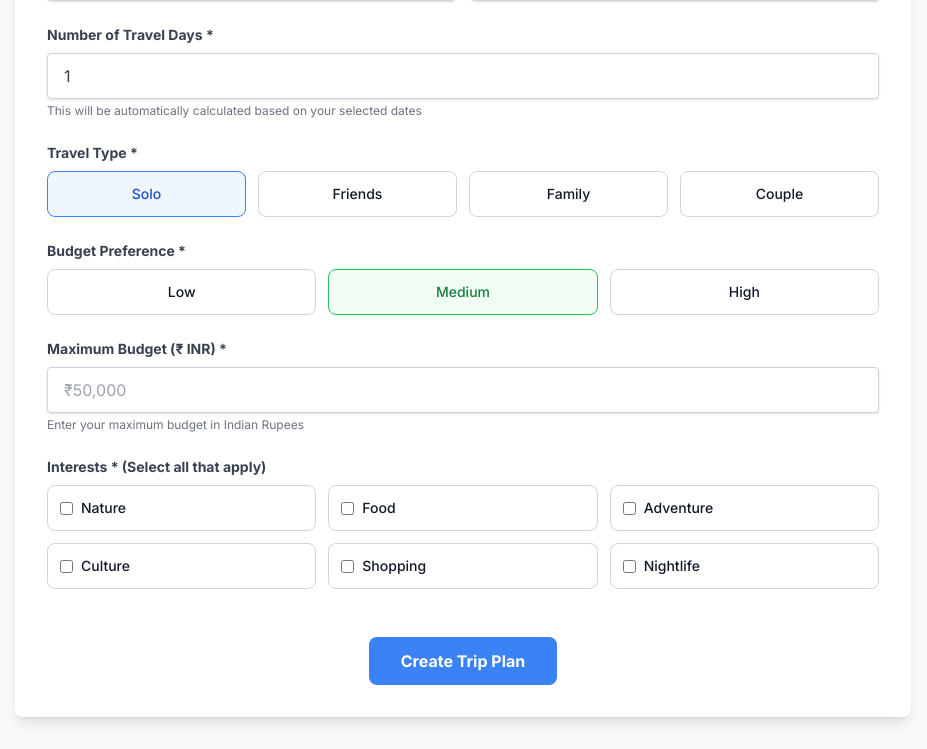
it: Trip Planning Flow Integration Tests › should validate form fields before submission
(page scrolled)
// Try to submit empty form
Click the button "Create Trip Plan": (463, 661) x1=369 y1=637 x2=557 y2=685
(page scrolled)
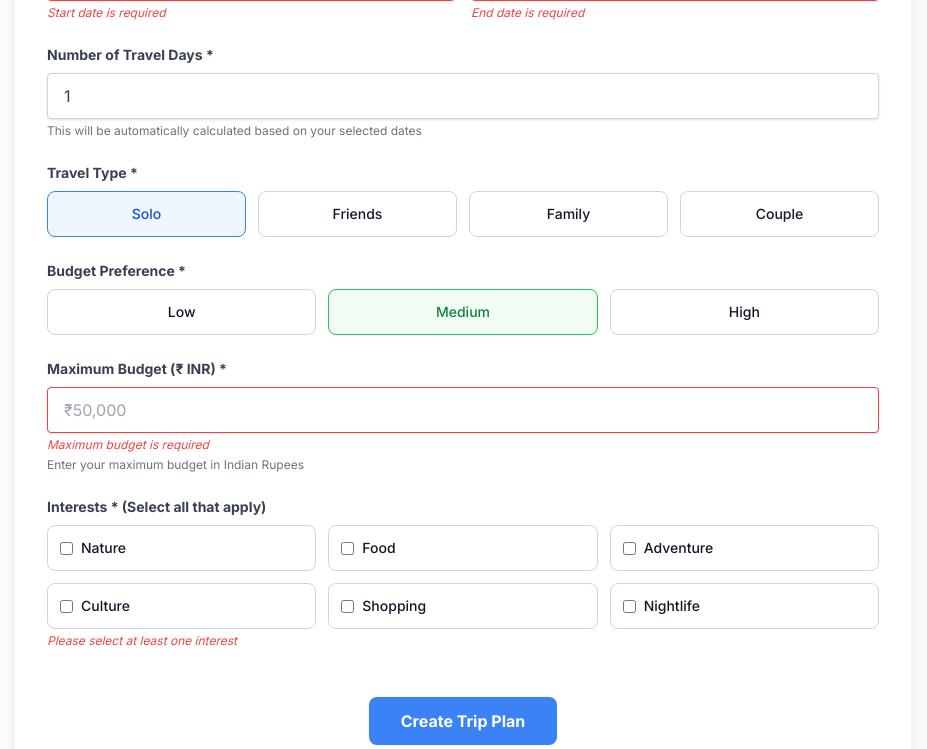
Result: the text "Start date is required" is shown at x1=47 y1=5 x2=166 y2=20
Result: the text "End date is required" is shown at x1=471 y1=5 x2=584 y2=20
Result: the text "Maximum budget is required" is shown at x1=47 y1=437 x2=209 y2=452
